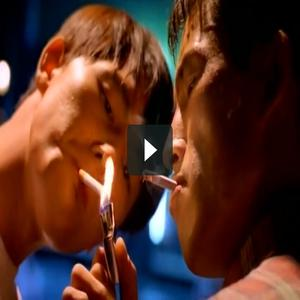cigarette: (75, 166, 107, 197), (143, 169, 179, 195)
